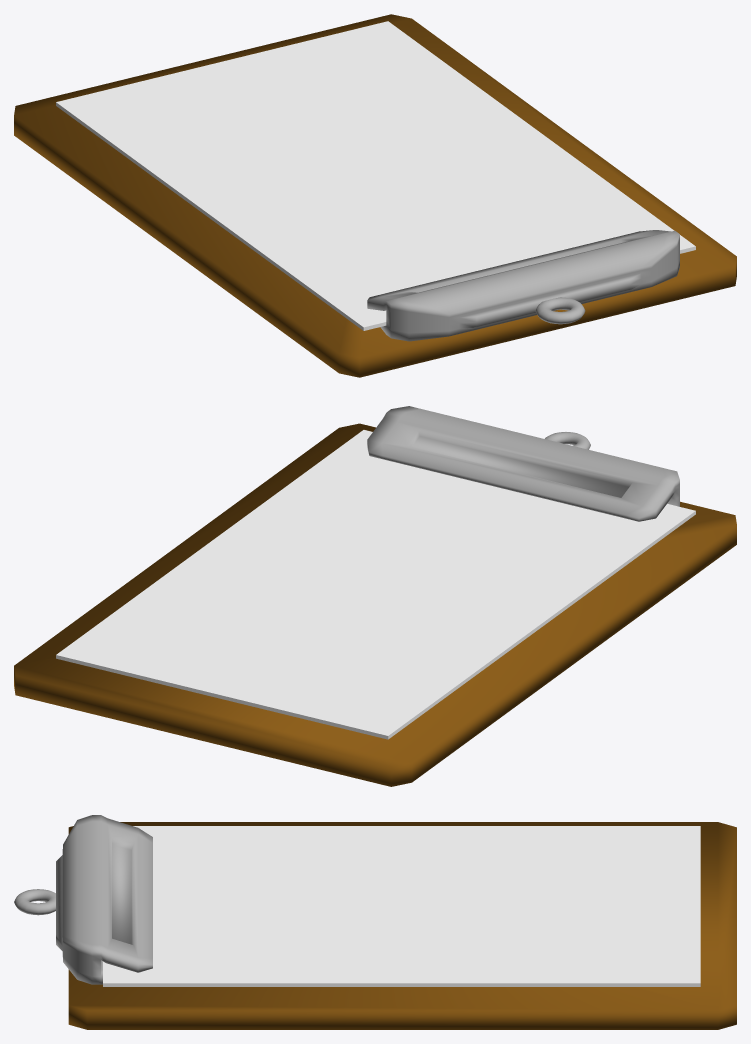
File: clipboard1.fbx
3 views of the same model, one above another, from view 1: azimuth 30°, elevation 25°; view 2: azimuth 150°, elevation 25°; view 3: azimuth 270°, elevation 25° (orthographic). The views are drawn at different scales.
Visible parts, largest first — view 1: Cube; view 2: Cube; view 3: Cube.
Boxes of the visible parts, x1,y1,x2,y2 form: Cube: [14, 14, 736, 377]; Cube: [14, 406, 736, 786]; Cube: [14, 815, 736, 1029].
Size of the model in its own units: 198 by 25.53 by 321.
